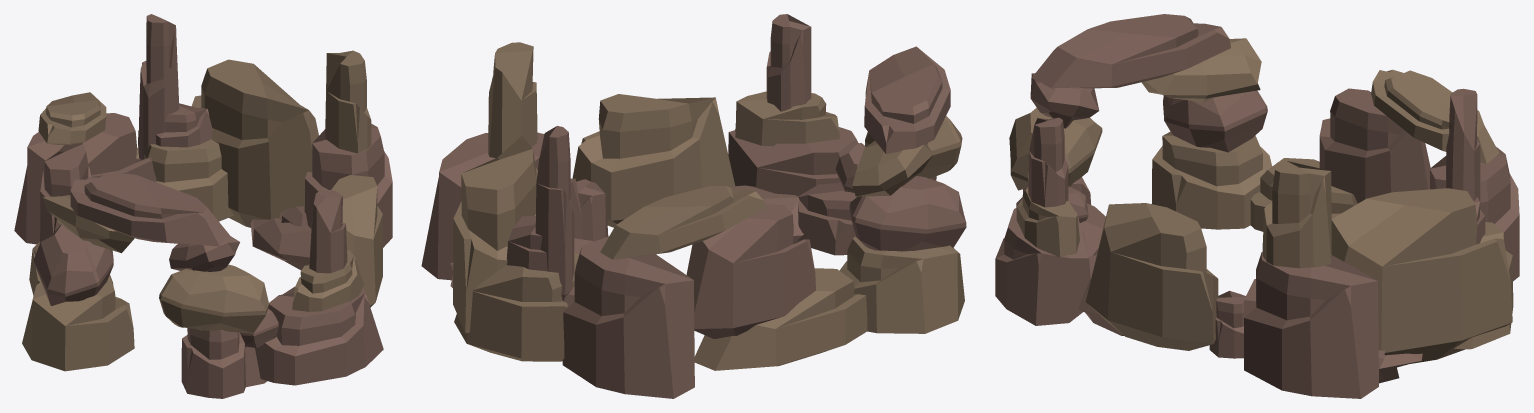
Rendered from stone_fence.fbx.
3 renders of one model, left to right at view 1: azimuth 30°, elevation 25°; view 2: azimuth 150°, elevation 25°; view 3: azimuth 270°, elevation 25°, orthographic. The views are drawn at different scales.
Parts seen in each view (by area): view 1: stone03.010; view 2: stone03.010; view 3: stone03.010.
Boxes of the visible parts, x1,y1,x2,y2 form: stone03.010: (14, 14, 392, 398); stone03.010: (421, 14, 966, 398); stone03.010: (995, 14, 1519, 398).
Bounding box in the file's own units: 7060 × 3556 × 7092.
